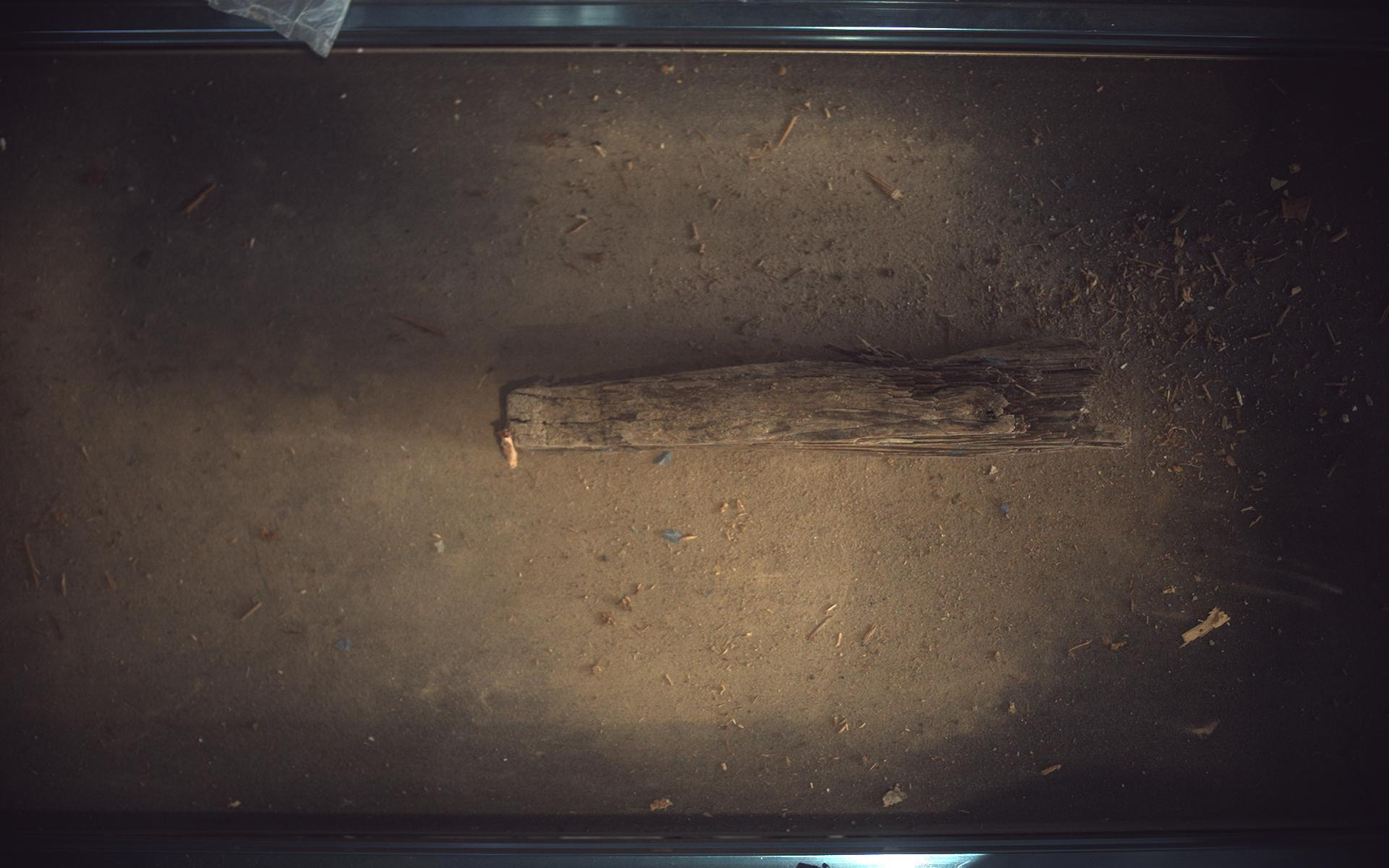wood: (506, 339, 1130, 455)
